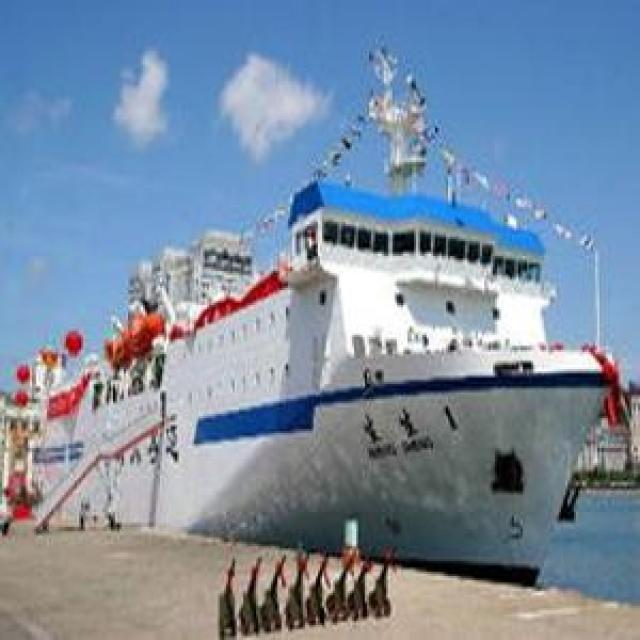passenger ship: (39, 170, 603, 572)
